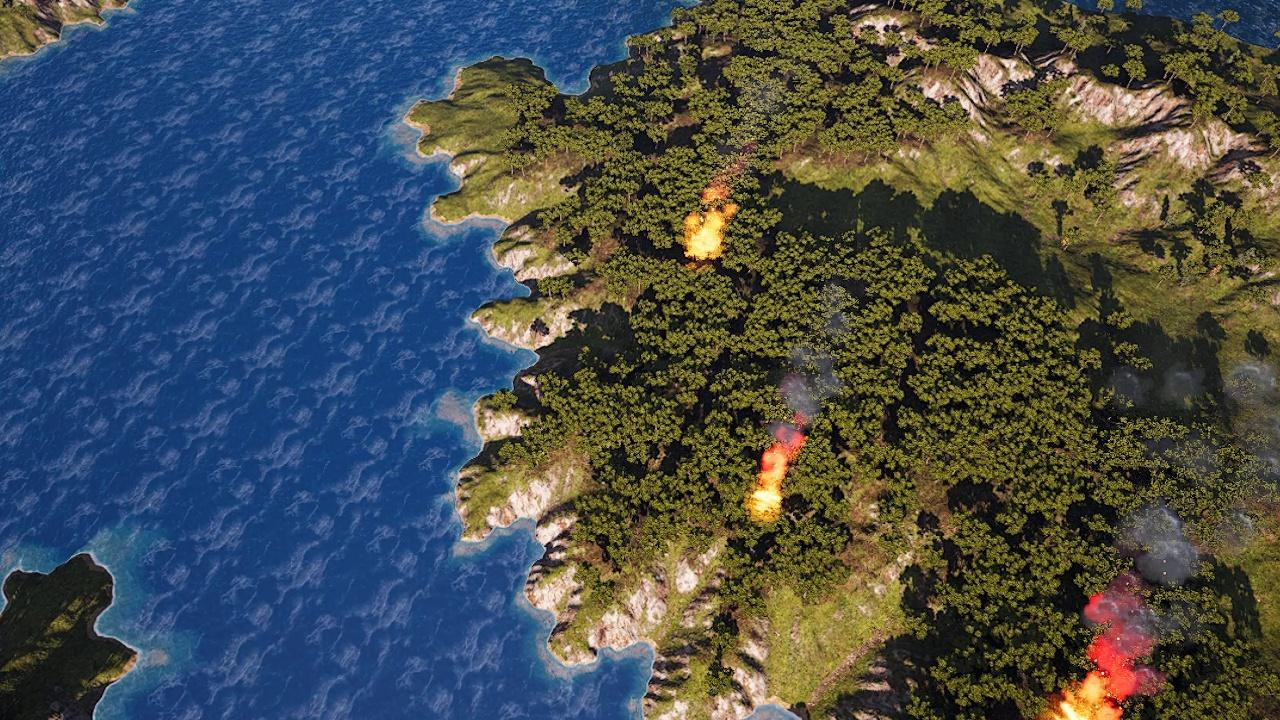fire: (1053, 675, 1124, 720), (751, 448, 792, 514), (685, 210, 732, 260)
smoke: (1082, 361, 1280, 701), (761, 291, 846, 450), (698, 79, 788, 207)
